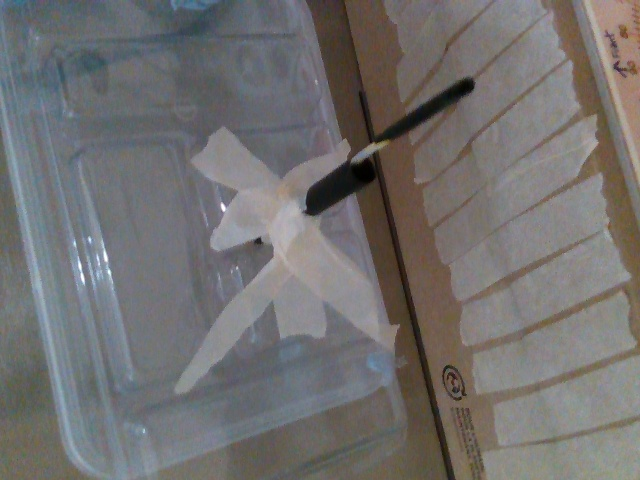test_strip: (350, 77, 475, 163)
